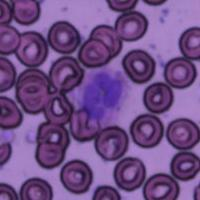N: (70, 65, 131, 131)
